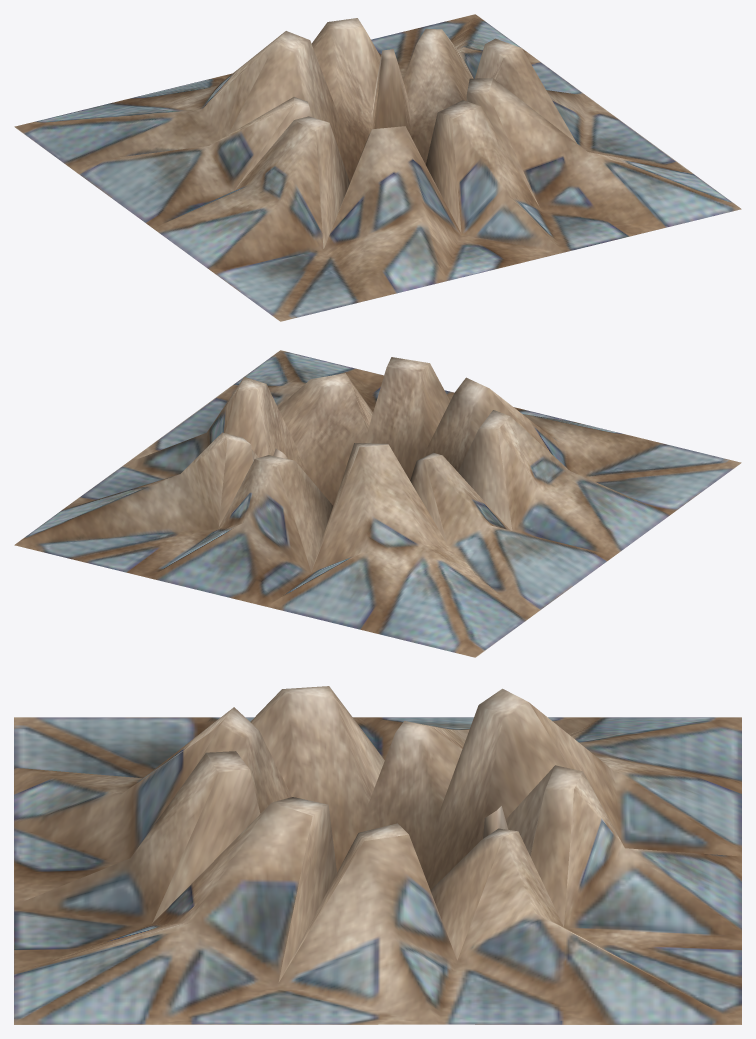
File: a_ESDcrack01.glb
3 views of the same model, one above another, from view 1: azimuth 30°, elevation 25°; view 2: azimuth 150°, elevation 25°; view 3: azimuth 270°, elevation 25° (orthographic). The views are drawn at different scales.
Parts seen in each view (by area): view 1: a_ESDcrack01; view 2: a_ESDcrack01; view 3: a_ESDcrack01.
Boxes of the visible parts, bbox=[...] form: a_ESDcrack01: bbox=[14, 14, 741, 321]; a_ESDcrack01: bbox=[14, 350, 741, 657]; a_ESDcrack01: bbox=[14, 686, 741, 1024].
Bounding box in the file's own units: 2 × 0.8372 × 2.
Materials: 1 (1 with a texture image).
